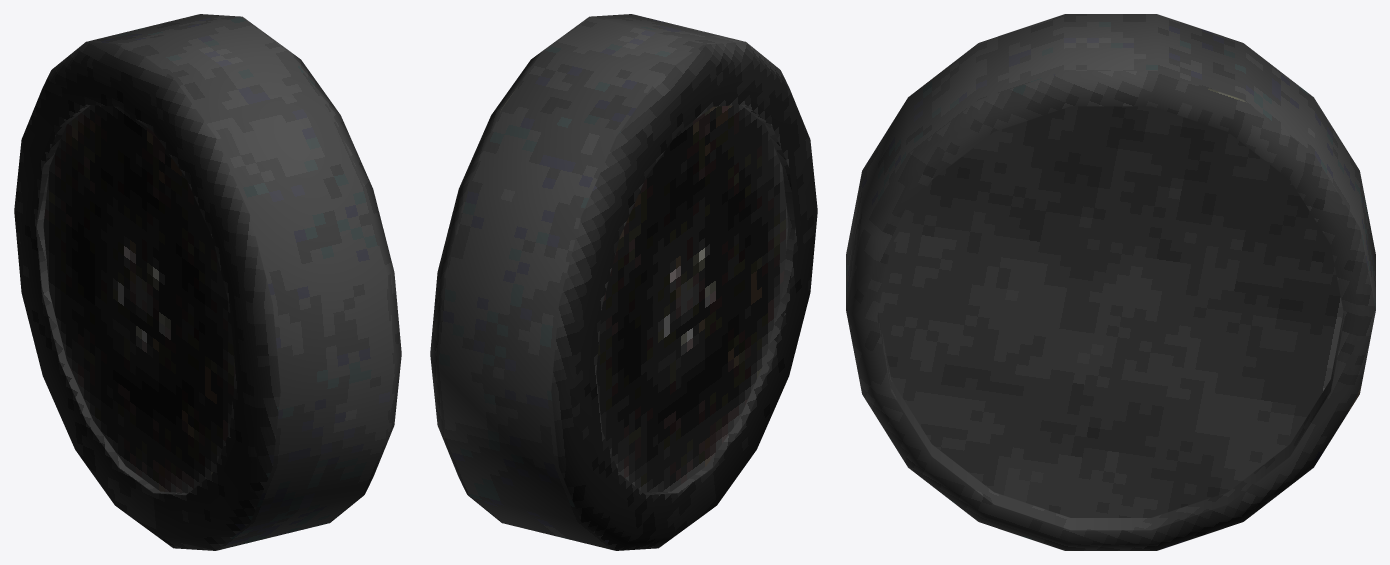
File: vw_golf_mk1_wheel_front_left.glb
3 renders of one model, left to right at view 1: azimuth 30°, elevation 25°; view 2: azimuth 150°, elevation 25°; view 3: azimuth 270°, elevation 25°, orthographic.
Visible parts, largest first — view 1: tire_fl; view 2: tire_fl; view 3: tire_fl.
Part boxes in pixels (<box>): tire_fl: <box>14,14,401,550</box>; tire_fl: <box>430,14,817,550</box>; tire_fl: <box>846,14,1375,550</box>.
Bounding box in the file's own units: 0.195 × 0.61 × 0.61.
1 material, 1 textured.
